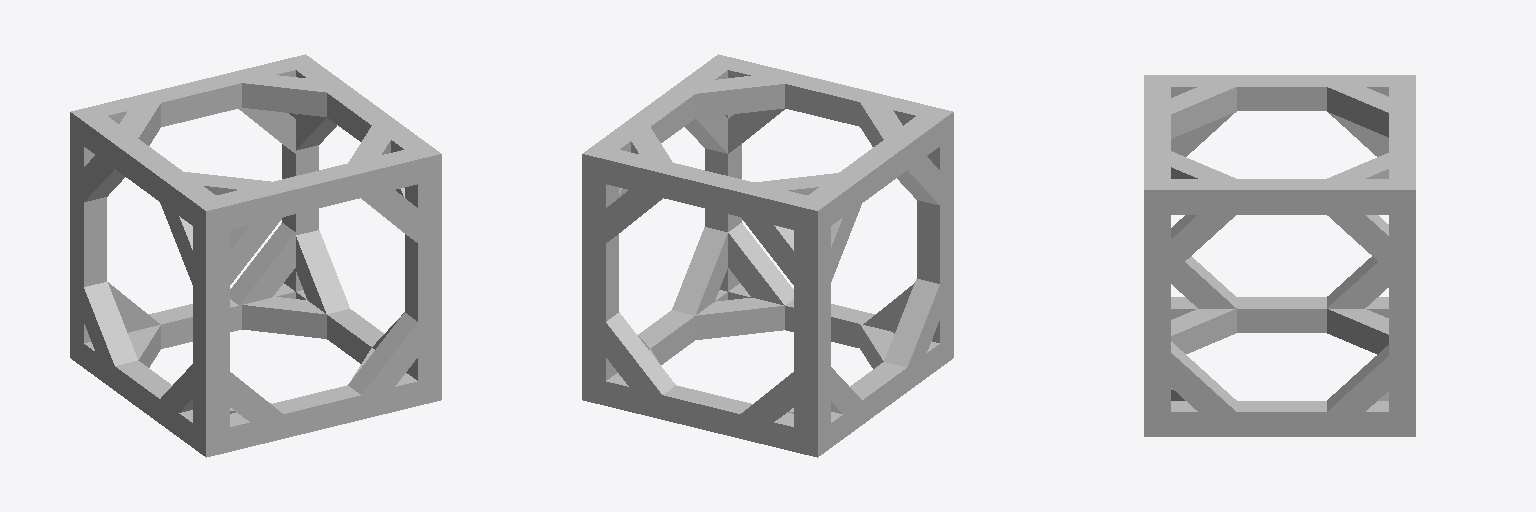
File: StructureCube.obj
3 views of the same model, side by side, from view 1: azimuth 30°, elevation 25°; view 2: azimuth 150°, elevation 25°; view 3: azimuth 270°, elevation 25° (orthographic).
Parts seen in each view (by area): view 1: Cube, Cube.003, Cube.002, Cube.001; view 2: Cube, Cube.003, Cube.002, Cube.001; view 3: Cube, Cube.001, Cube.003, Cube.002.
Boxes of the visible parts, box(x1,y1,x2,y2) form: Cube: box(70, 54, 441, 457); Cube.003: box(71, 105, 438, 425); Cube.002: box(95, 60, 417, 451); Cube.001: box(84, 64, 427, 447); Cube: box(582, 54, 953, 457); Cube.003: box(591, 81, 948, 439); Cube.002: box(606, 60, 928, 451); Cube.001: box(596, 64, 939, 447); Cube: box(1144, 75, 1415, 436); Cube.001: box(1171, 75, 1388, 436); Cube.003: box(1147, 78, 1412, 433); Cube.002: box(1144, 87, 1415, 178).
Size of the model in its own units: 2 by 2 by 2.